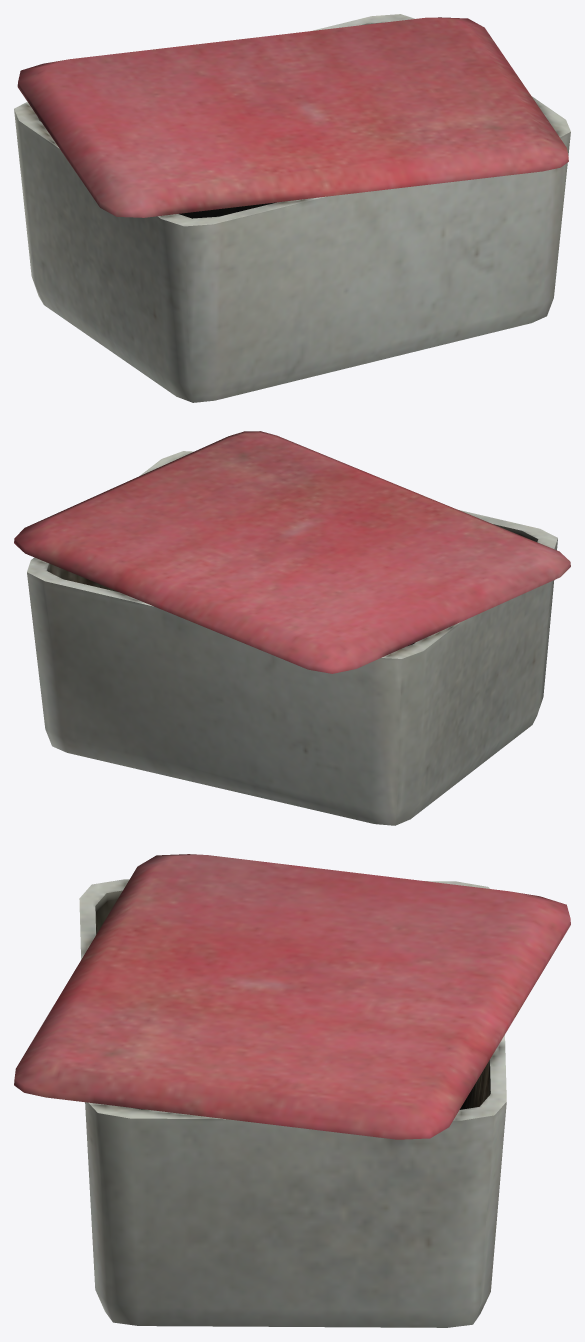
The model's file is PlasticCrate_T02.FBX.
The picture shows the model from 3 angles, top to bottom: view 1: azimuth 30°, elevation 25°; view 2: azimuth 150°, elevation 25°; view 3: azimuth 270°, elevation 25°; orthographic projection. The views are drawn at different scales.
Visible parts, largest first — view 1: PlasticCrate_T02; view 2: PlasticCrate_T02; view 3: PlasticCrate_T02.
Part boxes in pixels (x1,y1,x2,y2): PlasticCrate_T02: [14, 14, 570, 402]; PlasticCrate_T02: [14, 431, 570, 825]; PlasticCrate_T02: [14, 854, 570, 1327].
Size of the model in its own units: 69.28 by 28.81 by 59.47.
